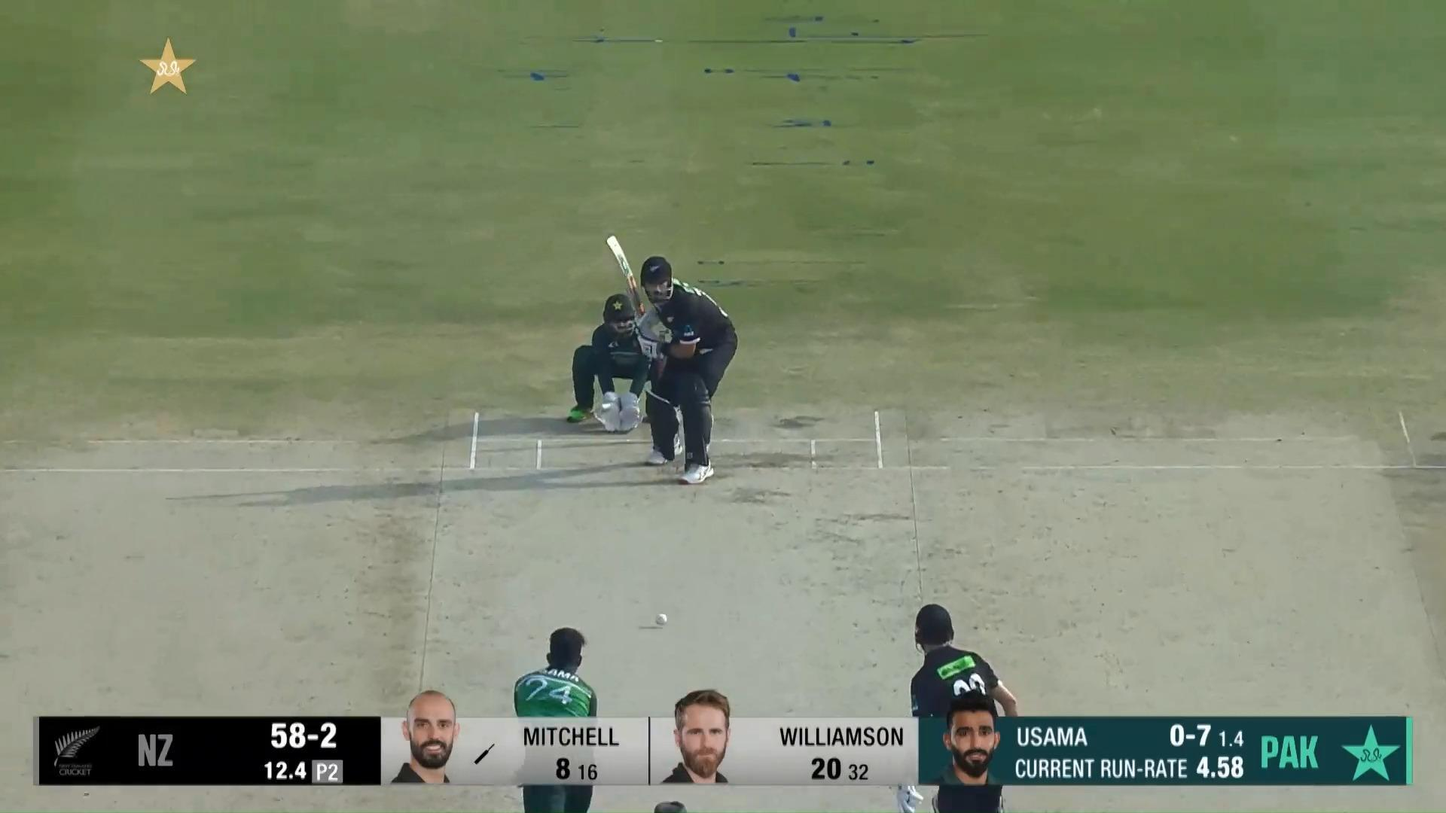BM 1: (605, 234, 739, 484)
BO: (508, 627, 605, 813)
